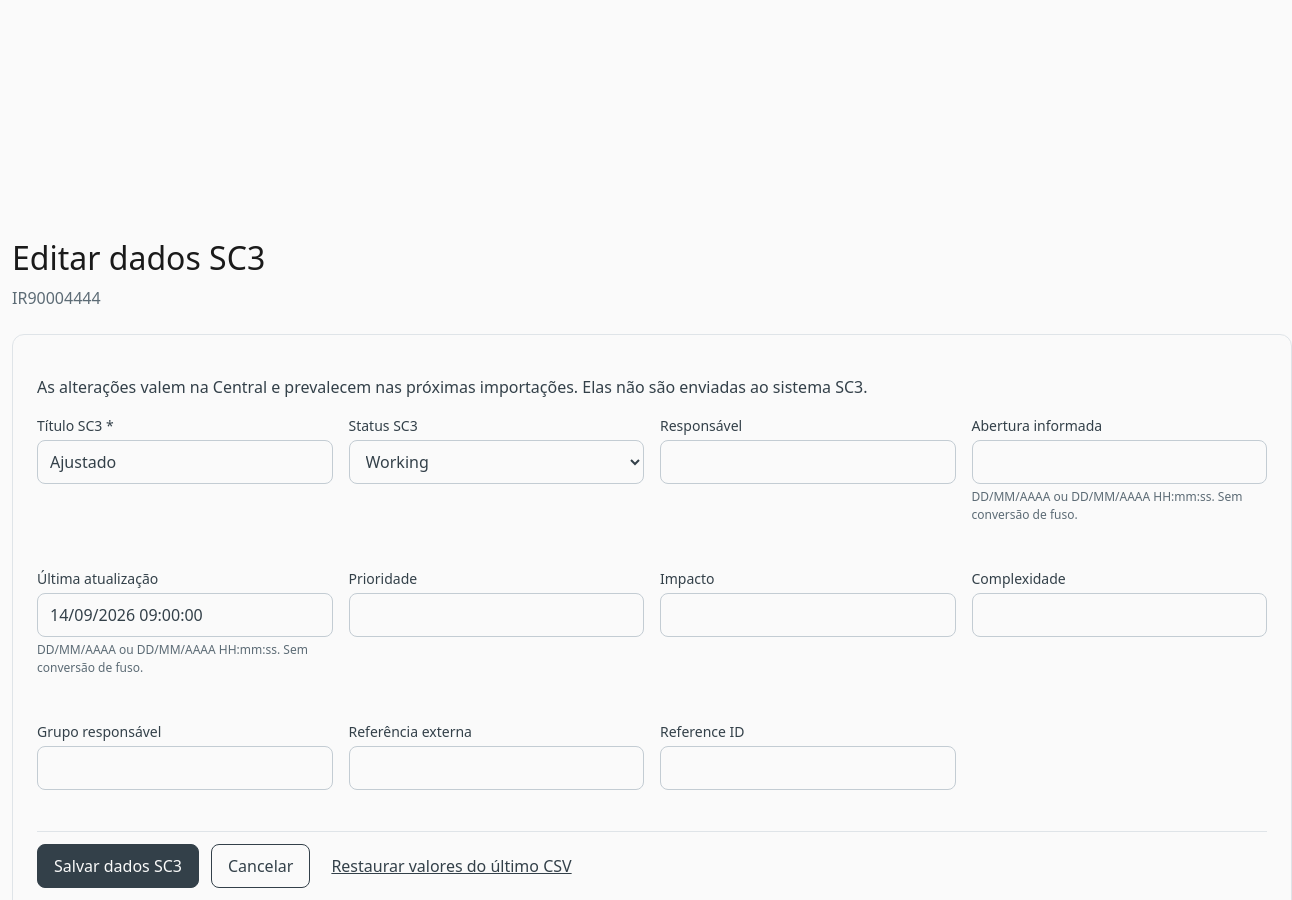
Test: restaurar apenas preenche a prévia, exigindo salvar para gravar
The width and height of the screenshot is (1292, 900).
(page scrolled)
Click the button "Restaurar valores do último CSV".
click(452, 866)  # box [322,850,581,882]
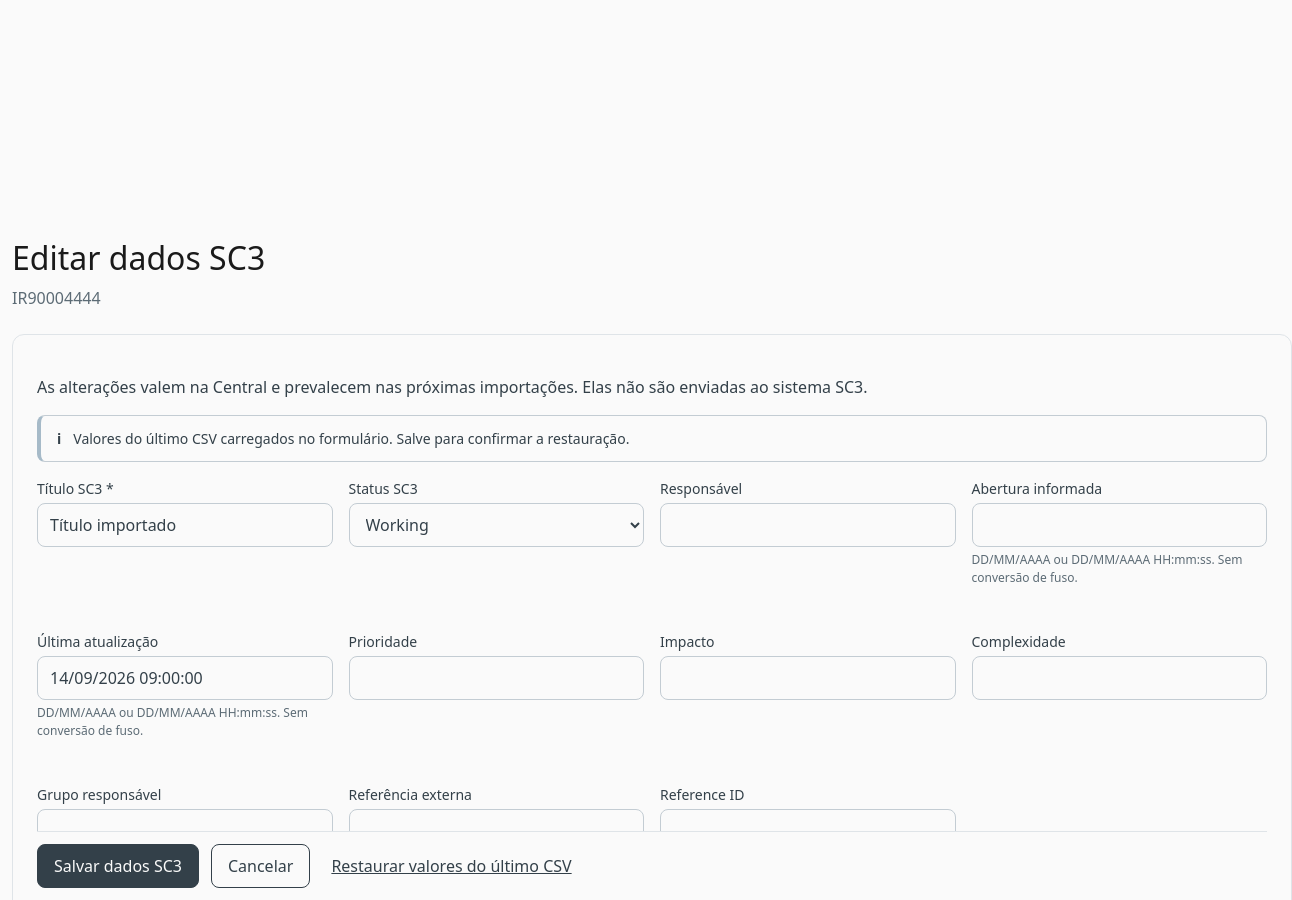
Result: the text "Salve para confirmar" is shown at [73,429,630,448]
